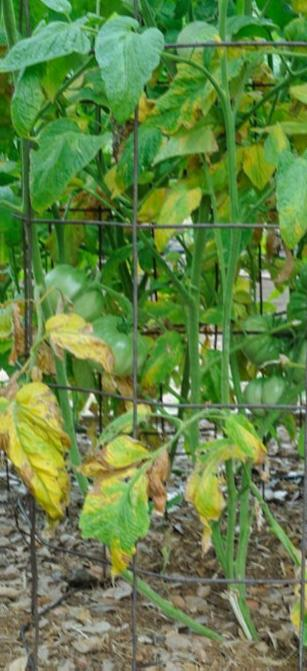Tomato Early blight leaf: (180, 417, 279, 548), (78, 438, 168, 579), (1, 380, 69, 515), (47, 310, 119, 388), (152, 188, 202, 252), (238, 140, 274, 191)
Tomato leaf: (95, 18, 161, 131), (27, 115, 96, 210), (0, 21, 88, 67)
